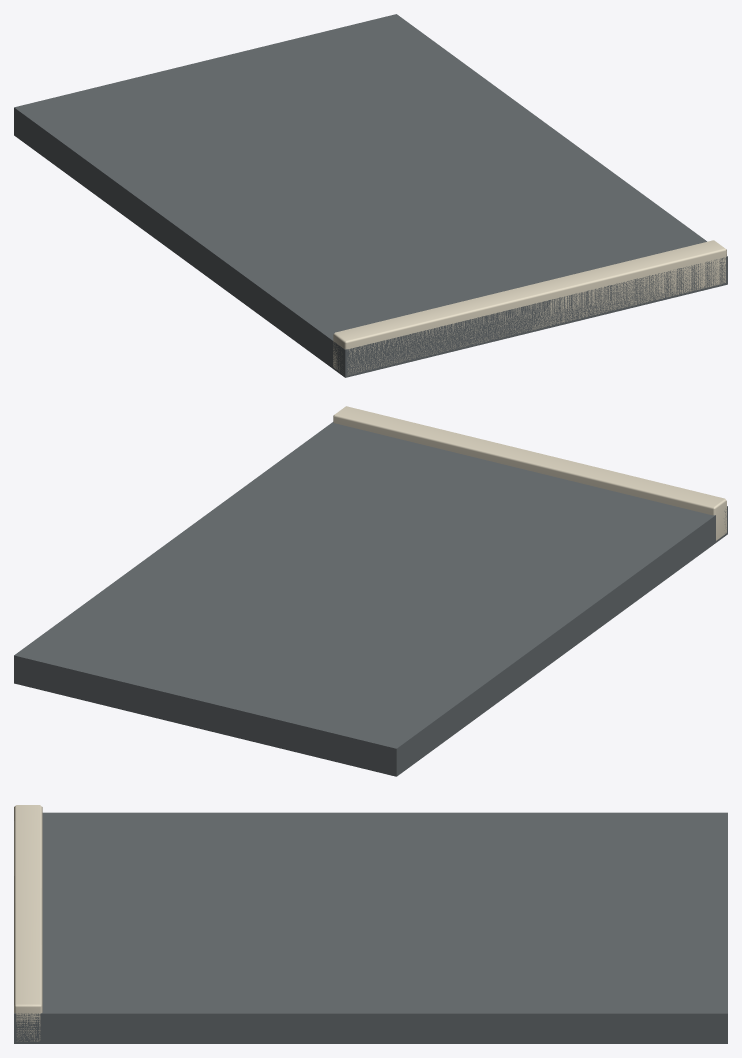
File: pavement-kit.glb
3 views of the same model, one above another, from view 1: azimuth 30°, elevation 25°; view 2: azimuth 150°, elevation 25°; view 3: azimuth 270°, elevation 25° (orthographic). The views are drawn at different scales.
Parts seen in each view (by area): view 1: pavement-kit; view 2: pavement-kit; view 3: pavement-kit.
Boxes of the visible parts, x1,y1,x2,y2 form: pavement-kit: (14,14,727,377); pavement-kit: (14,406,727,776); pavement-kit: (14,805,727,1043).
Size of the model in its own units: 2 by 0.18 by 3.
Materials: 1 (1 with a texture image).
